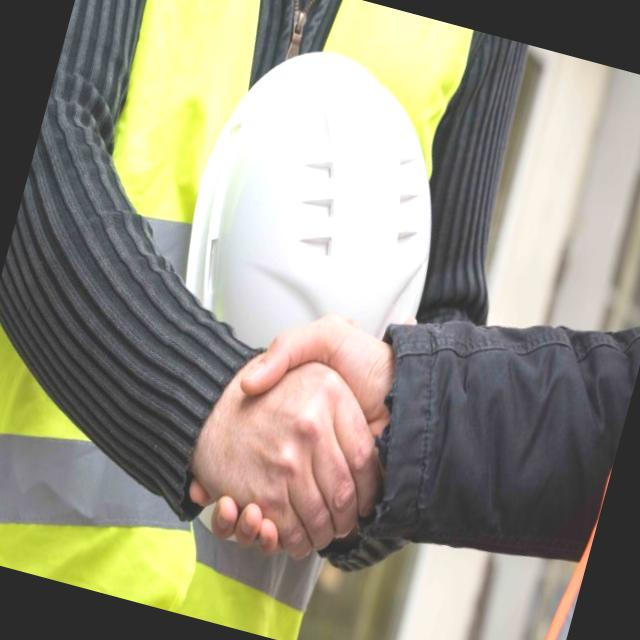helmet: (130, 20, 523, 437)
